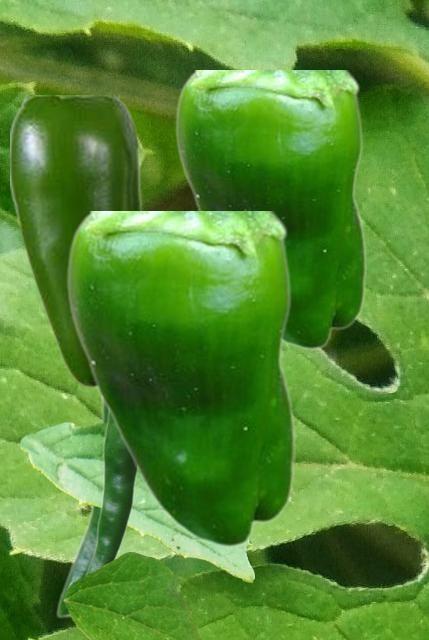green_chili: (65, 211, 294, 547), (174, 70, 365, 349), (10, 95, 141, 387), (55, 399, 106, 617), (84, 412, 138, 574)
